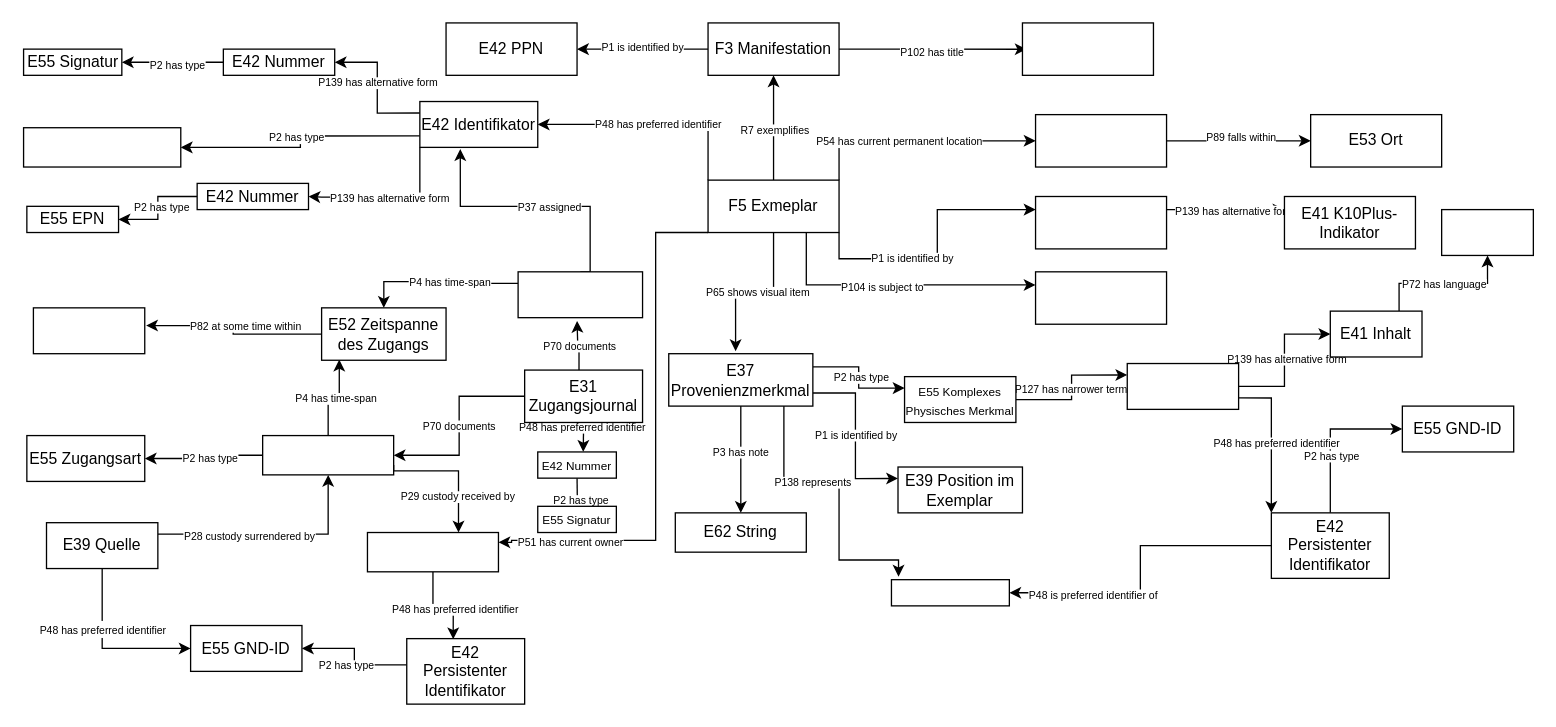
This 1556x727 diagram has some shape labels left out. Here are the shapes that lost their labels. From the top down, the centre of each, then its label:
At pixel 1087 48: "E35 Title".
At pixel 101 146: "E55 Inventarnummer".
At pixel 1100 140: "E53 Standort".
At pixel 1100 222: "E41 T-Pro-Deskriptor".
At pixel 1486 231: "E56 Sprache".
At pixel 580 294: "E15 Inventarisierung".
At pixel 1100 297: "E30 Rechtlicher Status".
At pixel 88 330: "E61 Zugangsdatum".
At pixel 1182 385: "E55 Einfaches Physisches Merkmal".
At pixel 327 454: "E74 Zugang in den Bestand".
At pixel 432 551: "E74 Empfänger".
At pixel 949 592: "E39 Provenienz".
